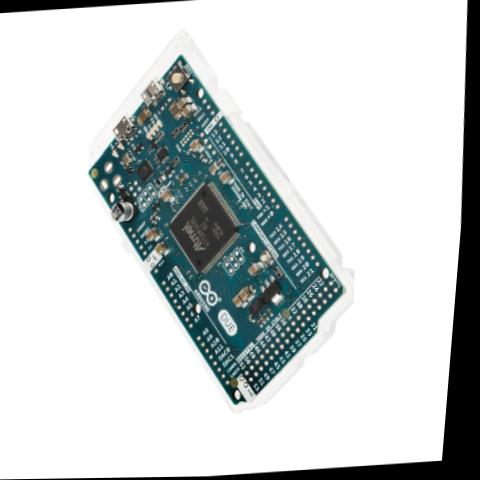Arduino-Due: (68, 40, 377, 422)
